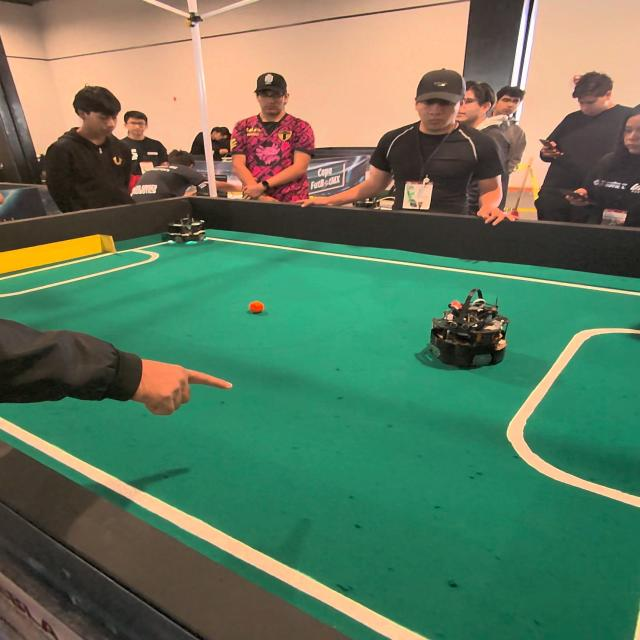Robot: (419, 290, 510, 376), (164, 197, 207, 246)
pelota: (247, 302, 265, 314)
